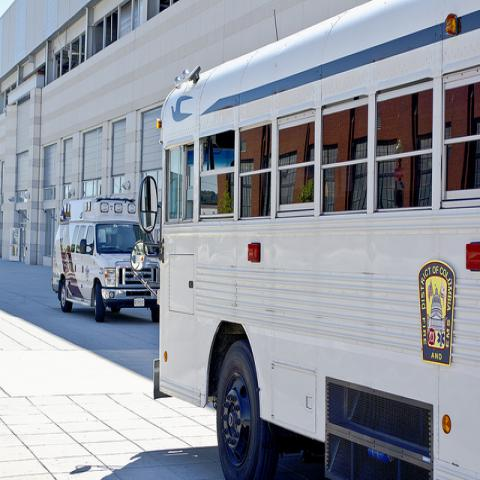bus: (153, 2, 479, 476)
truck: (50, 193, 160, 322)
